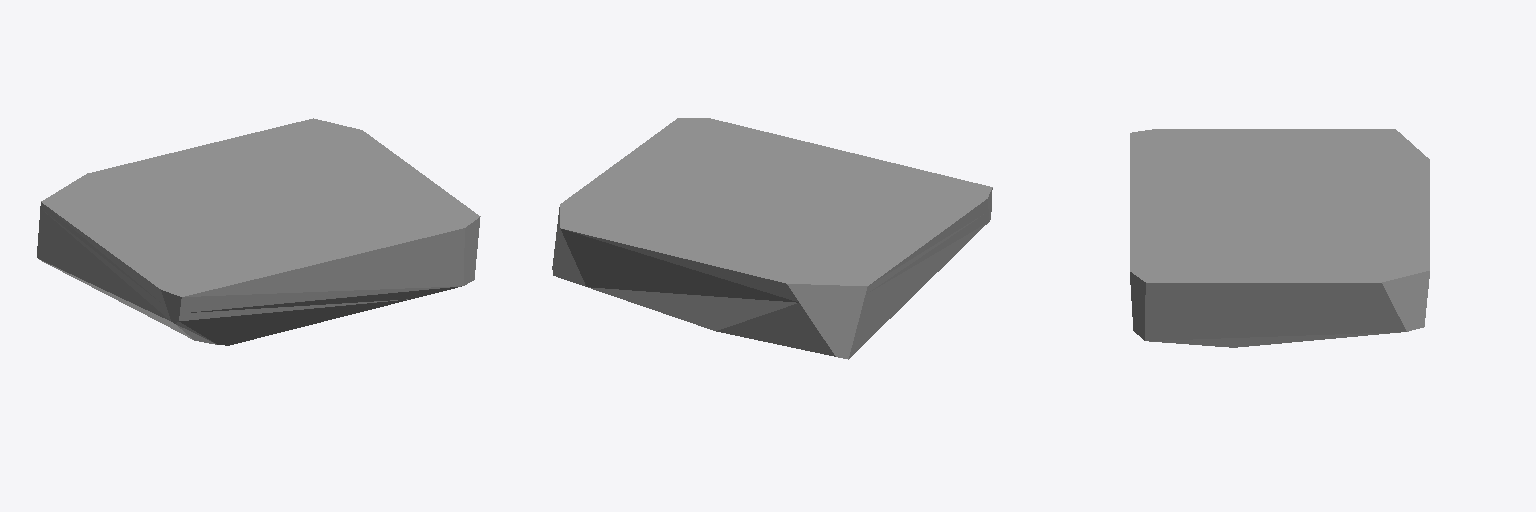
File: plateform1.obj
3 views of the same model, side by side, from view 1: azimuth 30°, elevation 25°; view 2: azimuth 150°, elevation 25°; view 3: azimuth 270°, elevation 25° (orthographic).
Parts seen in each view (by area): view 1: Cube; view 2: Cube; view 3: Cube.
Boxes of the visible parts, <box> form: Cube: <box>37,118,480,345</box>; Cube: <box>552,118,992,359</box>; Cube: <box>1130,129,1429,347</box>.
Size of the model in its own units: 6.82 by 2.08 by 5.64.